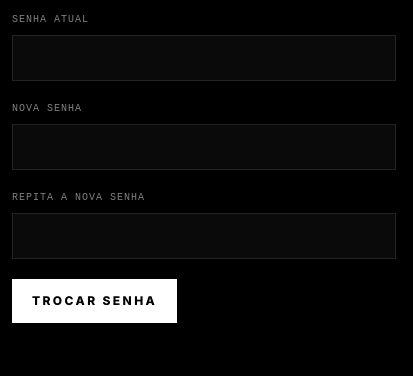
Test: ChangePasswordForm › reautentica, troca a senha e renova a sessão com um login novo
Type "antiga123" into the password field labelled "Senha atual".
click(204, 58); type("antiga123")  # box [12, 35, 396, 81]
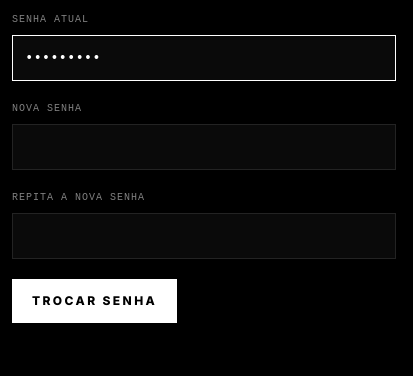
Type "novinha456" into the password field labelled "Nova senha".
click(204, 147); type("novinha456")  # box [12, 124, 396, 170]
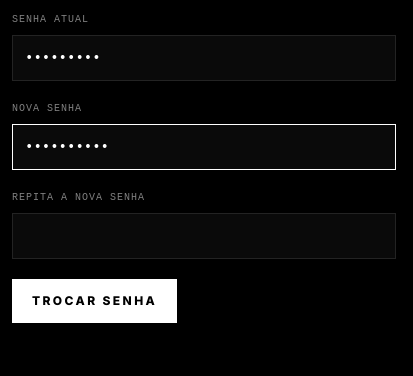
Type "novinha456" into the password field labelled "Repita a nova senha".
click(204, 236); type("novinha456")  # box [12, 213, 396, 259]
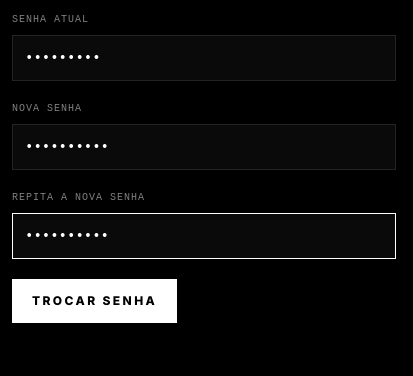
Click the button "Trocar senha".
click(95, 301)  # box [12, 279, 177, 323]
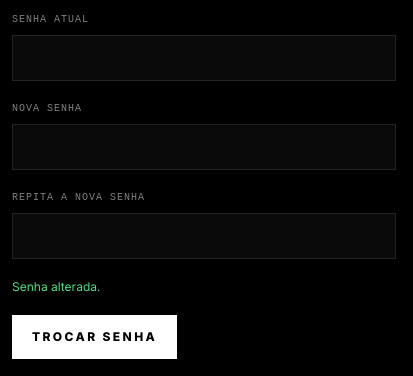
Expected: the text "Senha alterada." is shown, [12, 279, 100, 294]
